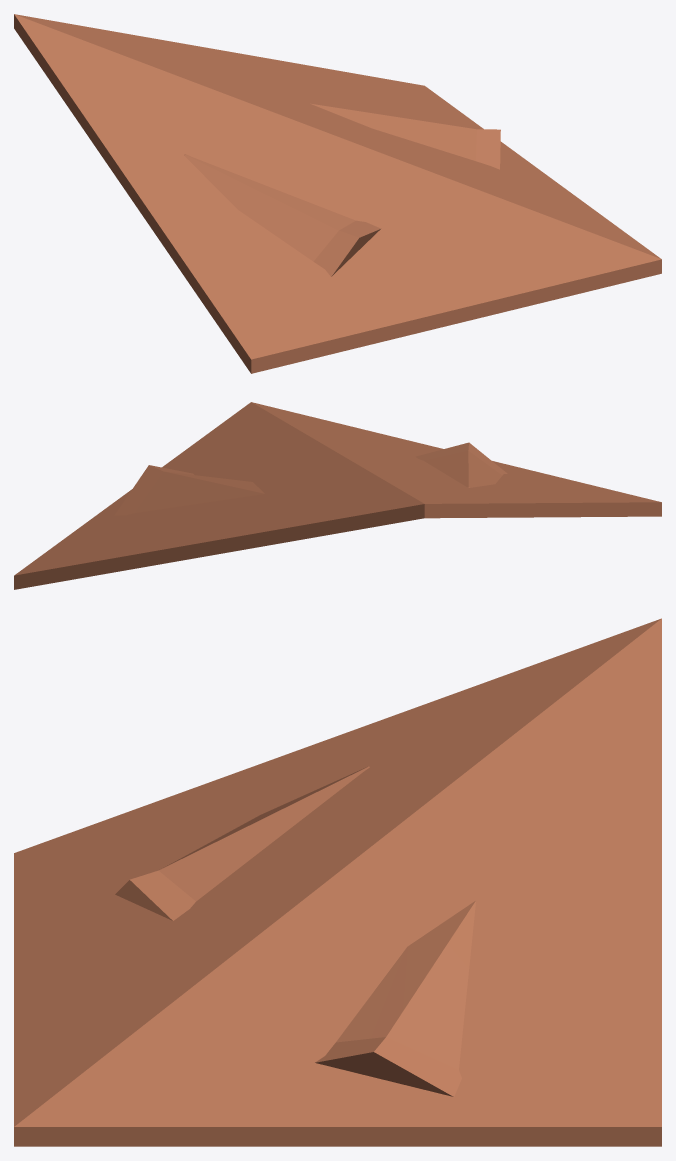
Rendered from SM_Roof_Out_Edge_Small_1m_Empire.fbx.
3 views of the same model, one above another, from view 1: azimuth 30°, elevation 25°; view 2: azimuth 150°, elevation 25°; view 3: azimuth 270°, elevation 25° (orthographic). The views are drawn at different scales.
Parts seen in each view (by area): view 1: SM_Roof_Out_Edge_Small_1m_Empire; view 2: SM_Roof_Out_Edge_Small_1m_Empire; view 3: SM_Roof_Out_Edge_Small_1m_Empire.
Boxes of the visible parts, x1,y1,x2,y2 form: SM_Roof_Out_Edge_Small_1m_Empire: [14, 14, 661, 373]; SM_Roof_Out_Edge_Small_1m_Empire: [14, 402, 661, 589]; SM_Roof_Out_Edge_Small_1m_Empire: [14, 618, 661, 1146].
Bounding box in the file's own units: 1.5 × 0.6503 × 1.5.
